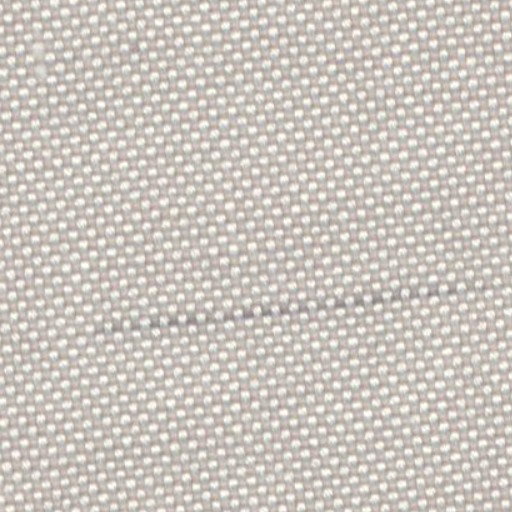WuZi: (100, 274, 476, 334)
